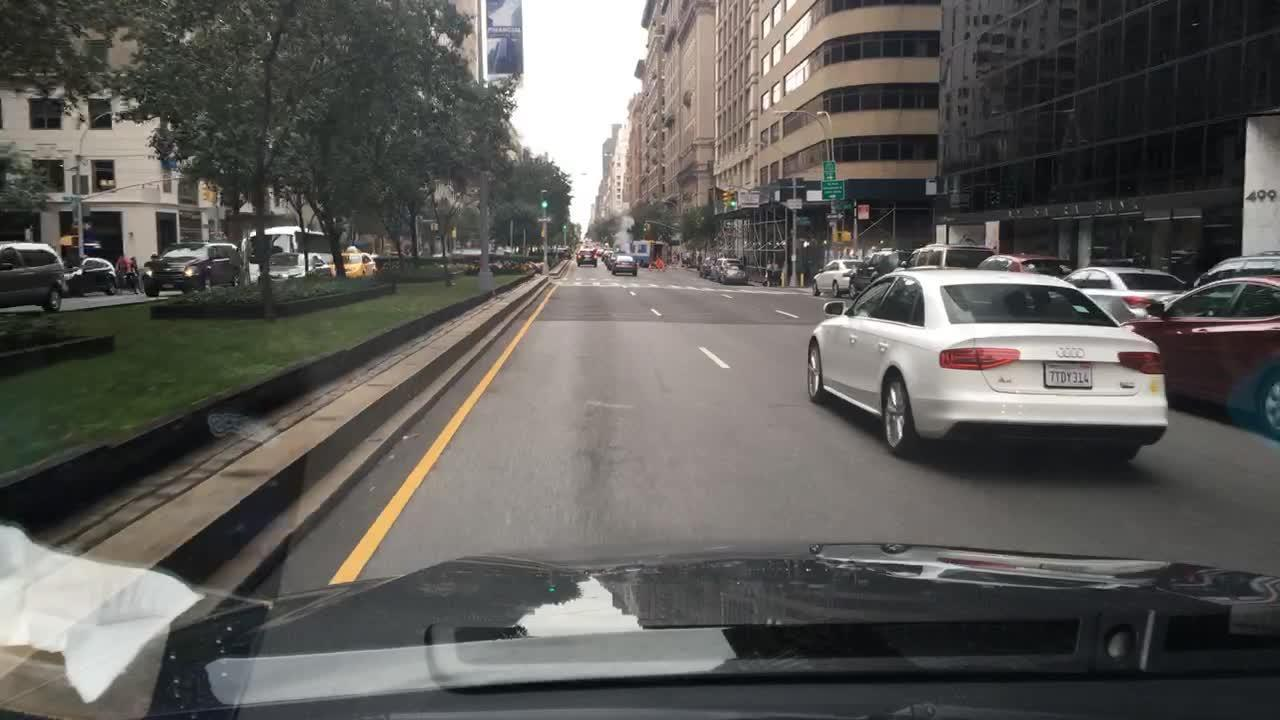Audi: (1053, 339, 1091, 365)
